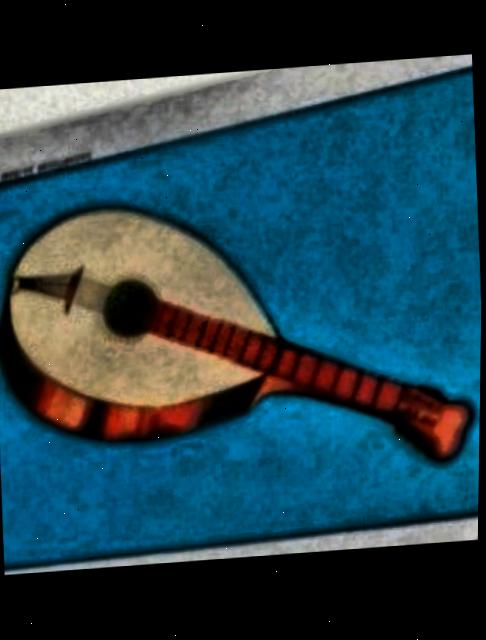El Bandolon: (0, 68, 482, 566)
